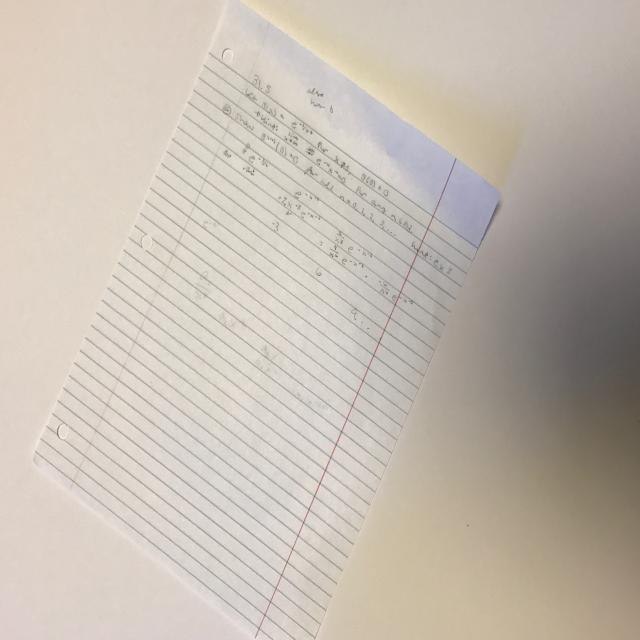paper: (23, 0, 511, 640)
